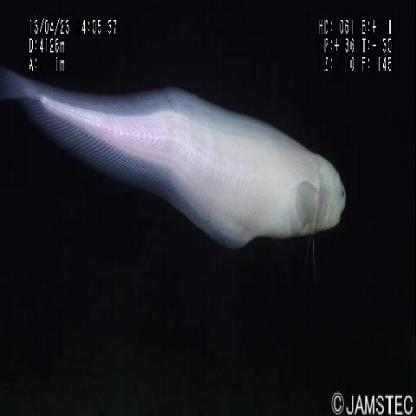Bio: (1, 60, 349, 254)
